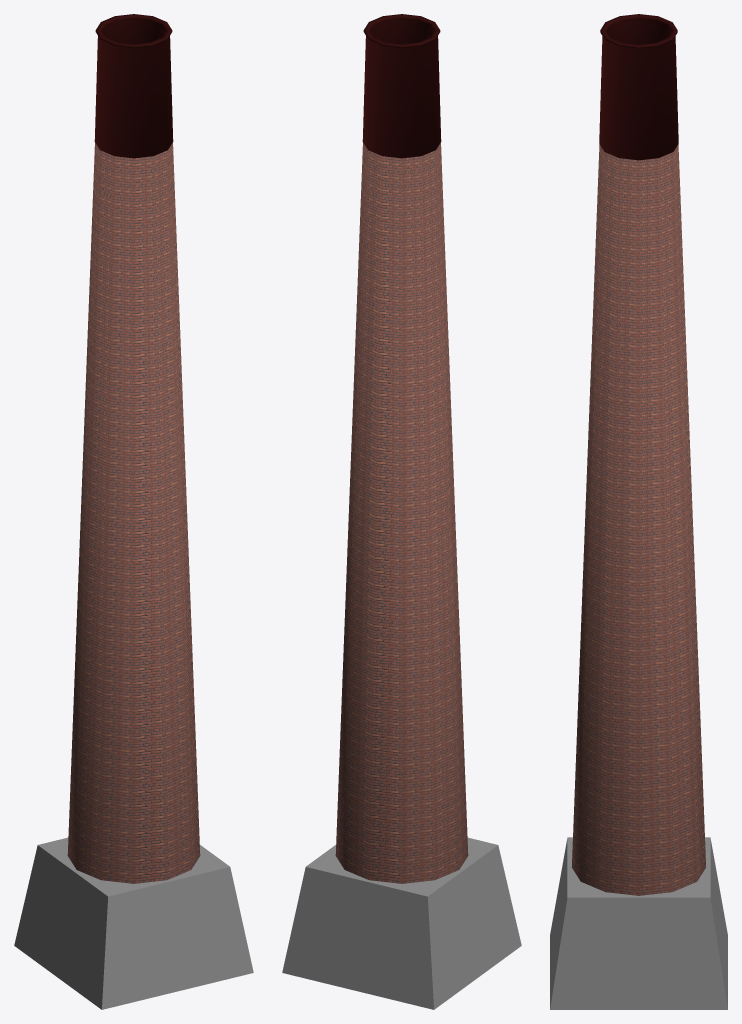
Rendered from hatanpaa.obj.
3 renders of one model, left to right at view 1: azimuth 30°, elevation 25°; view 2: azimuth 150°, elevation 25°; view 3: azimuth 270°, elevation 25°, orthographic.
Parts seen in each view (by area): view 1: Cube; view 2: Cube; view 3: Cube.
Boxes of the visible parts, x1,y1,x2,y2 form: Cube: [14, 14, 253, 1009]; Cube: [282, 14, 521, 1009]; Cube: [550, 14, 727, 1009].
Bounding box in the file's own units: 4.88 × 28.5 × 4.88.
3 materials, 1 textured.
